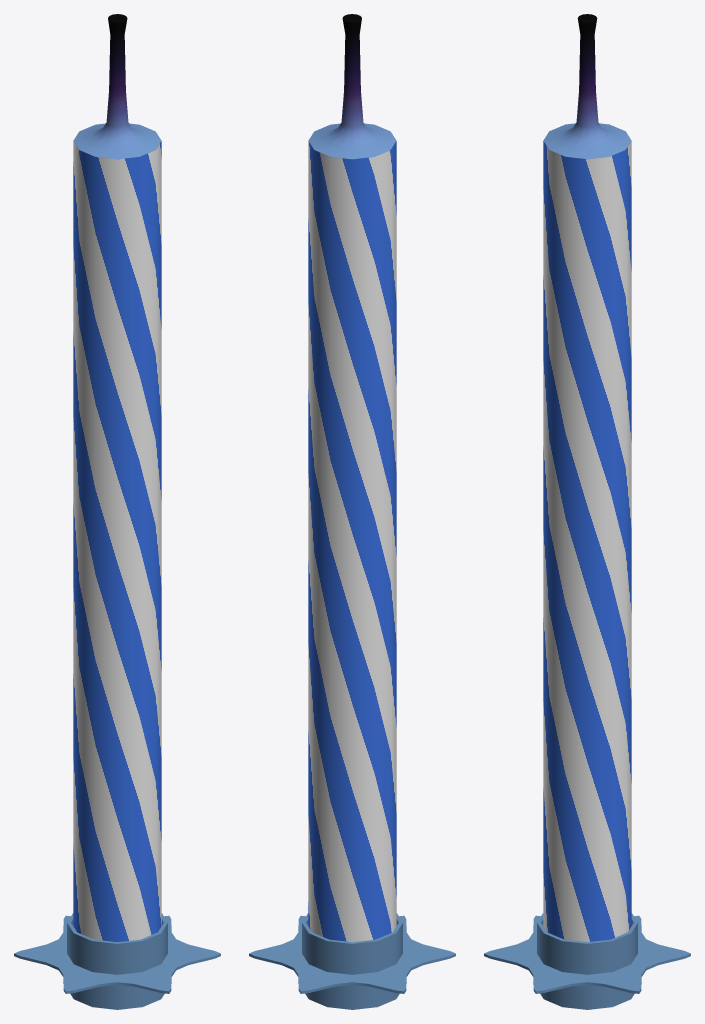
File: Candle_Blue.fbx
3 renders of one model, left to right at view 1: azimuth 30°, elevation 25°; view 2: azimuth 150°, elevation 25°; view 3: azimuth 270°, elevation 25°, orthographic.
Visible parts, largest first — view 1: Candle_Blue, Candle_Holder_Blue; view 2: Candle_Blue, Candle_Holder_Blue; view 3: Candle_Blue, Candle_Holder_Blue.
Part boxes in pixels (x1,y1,x2,y2): Candle_Blue: [73, 14, 161, 942]; Candle_Holder_Blue: [14, 913, 220, 1009]; Candle_Blue: [308, 14, 396, 942]; Candle_Holder_Blue: [249, 913, 455, 1009]; Candle_Blue: [543, 14, 631, 942]; Candle_Holder_Blue: [484, 913, 690, 1009].
Size of the model in its own units: 1.64 by 9.81 by 1.9.
Materials: 3 (2 with a texture image).
